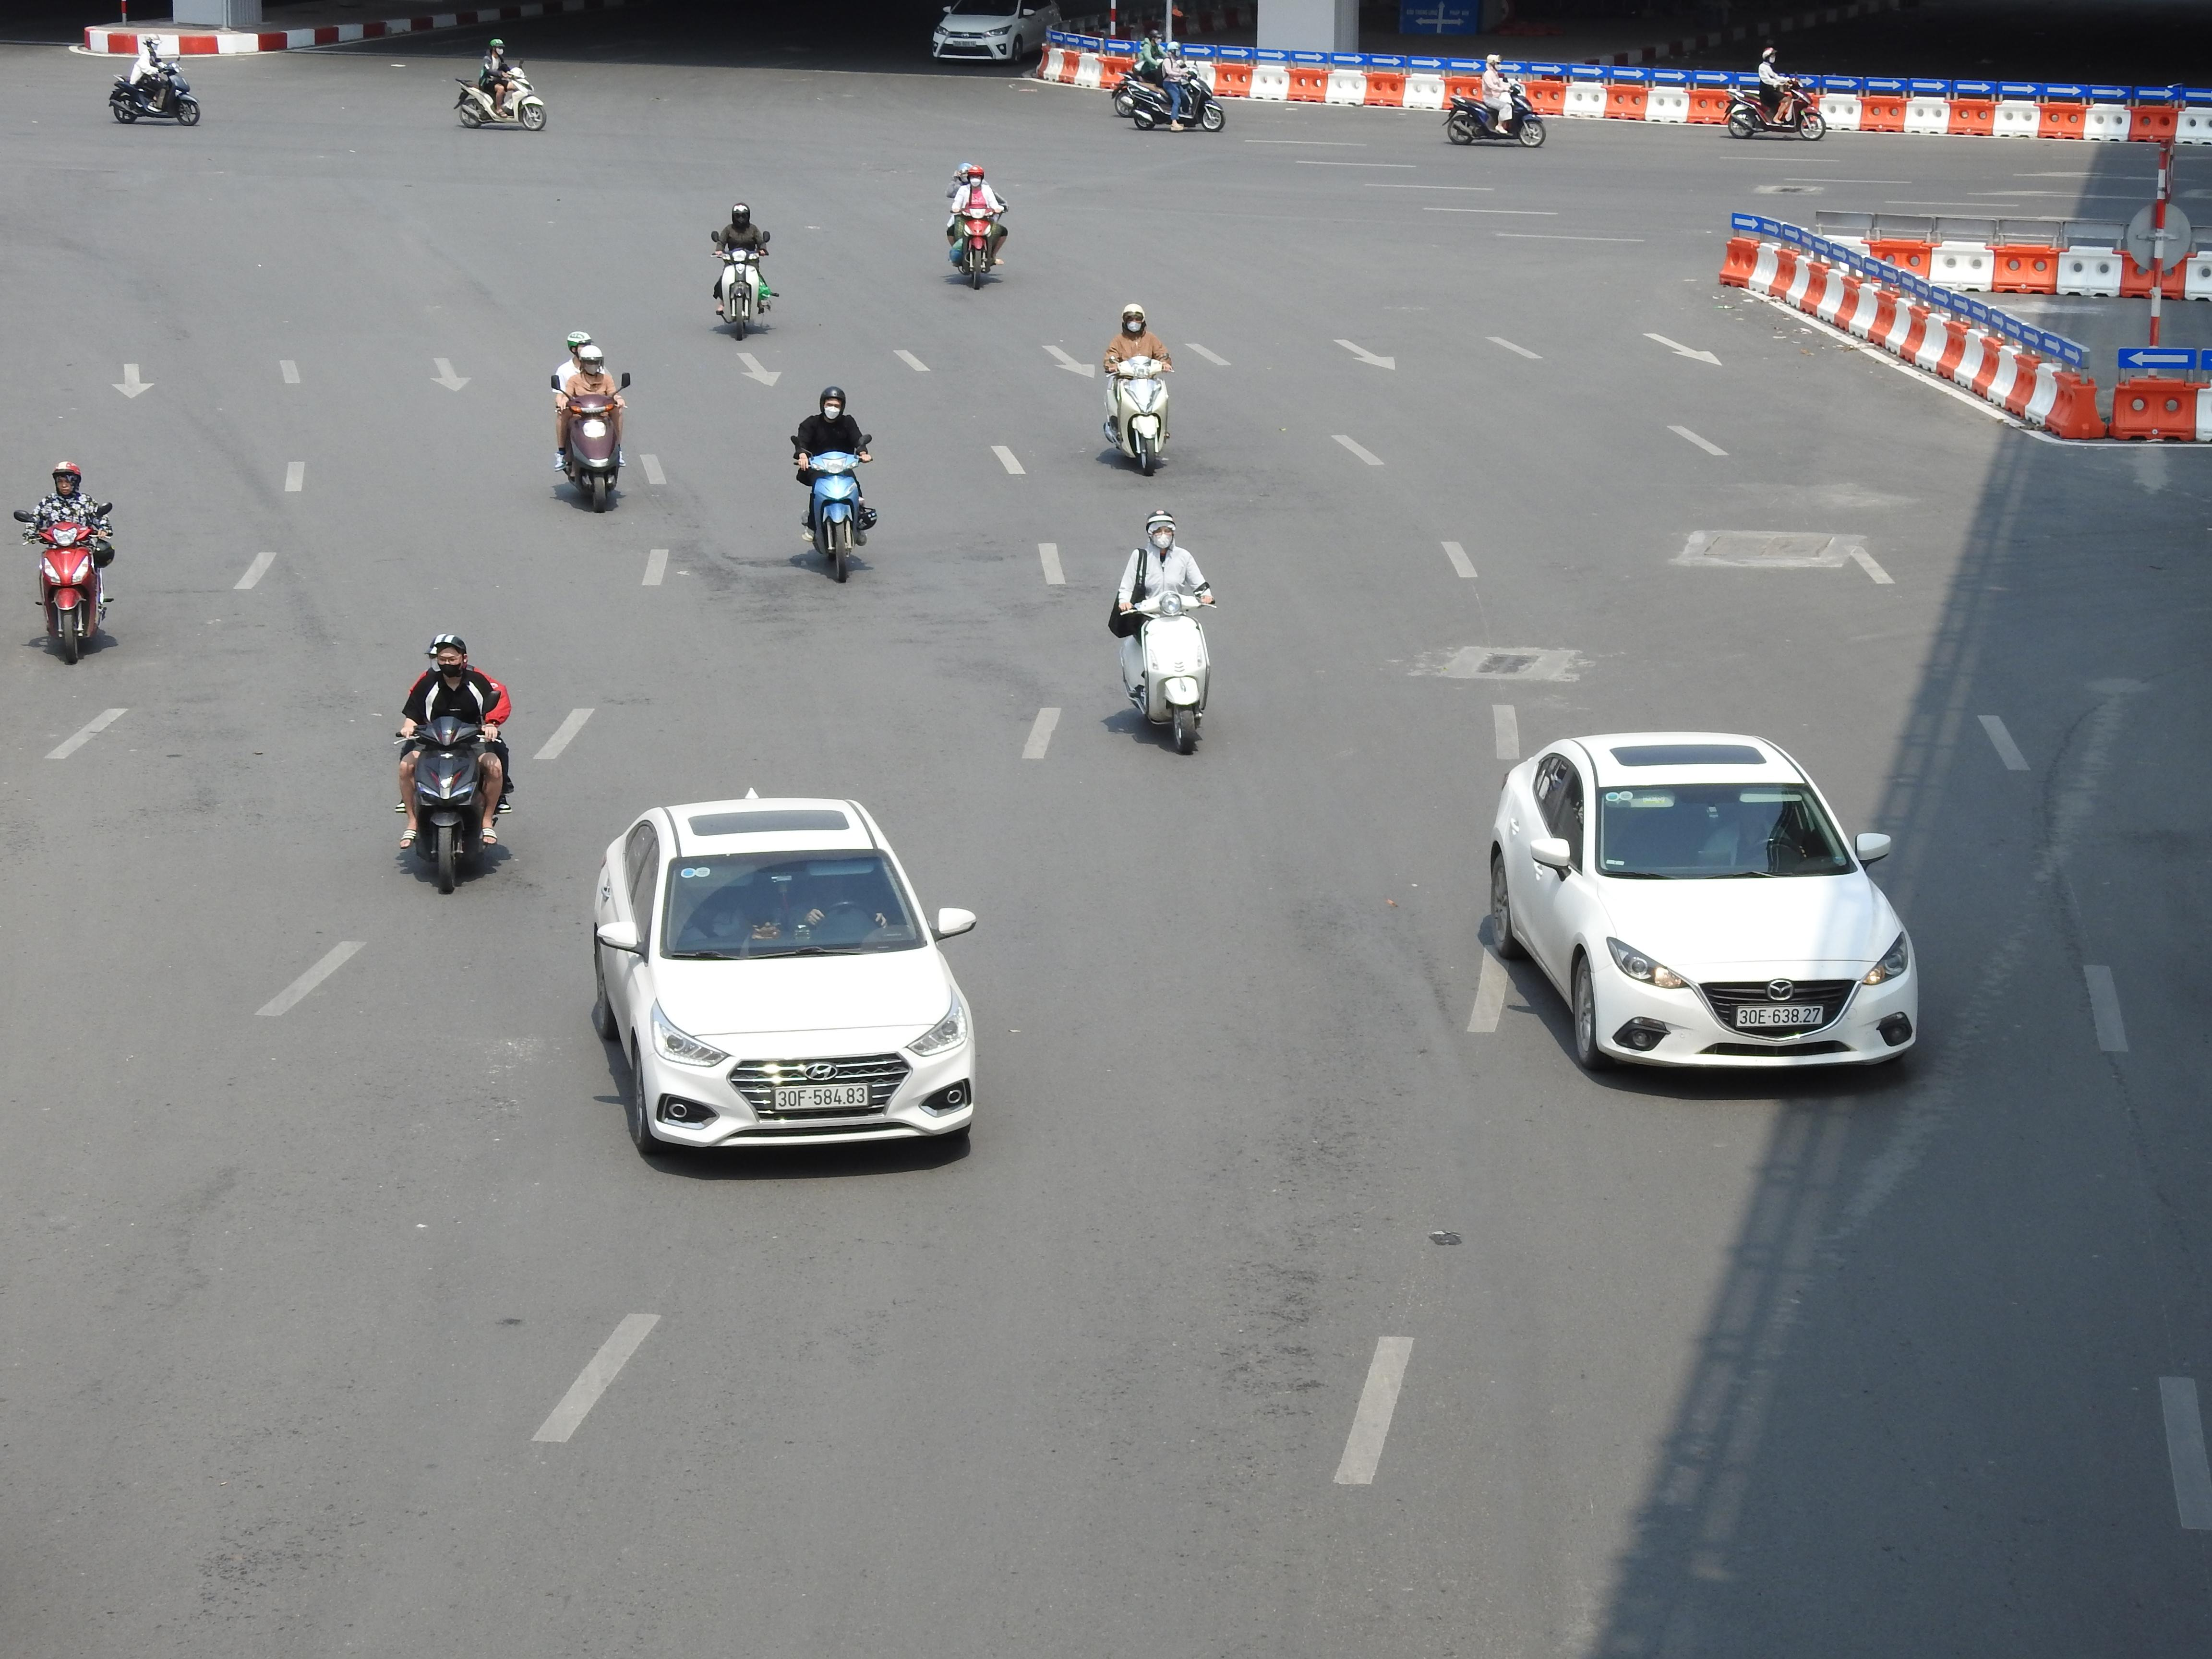BSD: (775, 1082, 869, 1110), (1737, 1006, 1824, 1026)
car: (1480, 730, 1923, 1079), (589, 795, 981, 1162), (932, 0, 1054, 64)
motorbike: (397, 631, 512, 896), (1113, 511, 1214, 758), (19, 460, 115, 666), (794, 385, 876, 584), (552, 331, 629, 512), (1101, 303, 1174, 477), (1723, 51, 1827, 139), (1442, 59, 1545, 148), (711, 200, 775, 340), (1127, 40, 1224, 131), (453, 37, 545, 131), (108, 35, 200, 125), (946, 162, 1008, 289)
